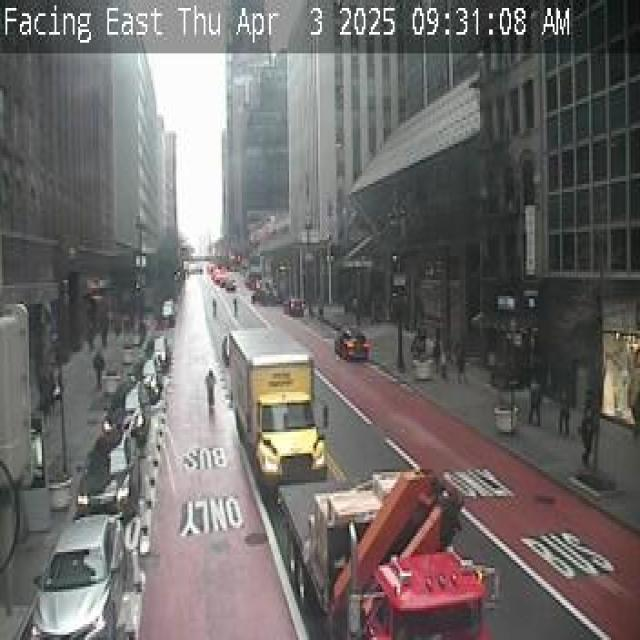open parking: (50, 288, 189, 640)
